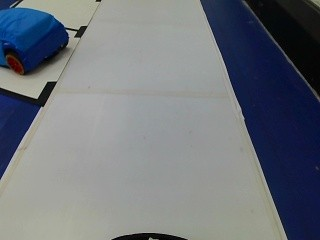car: (0, 5, 70, 75)
